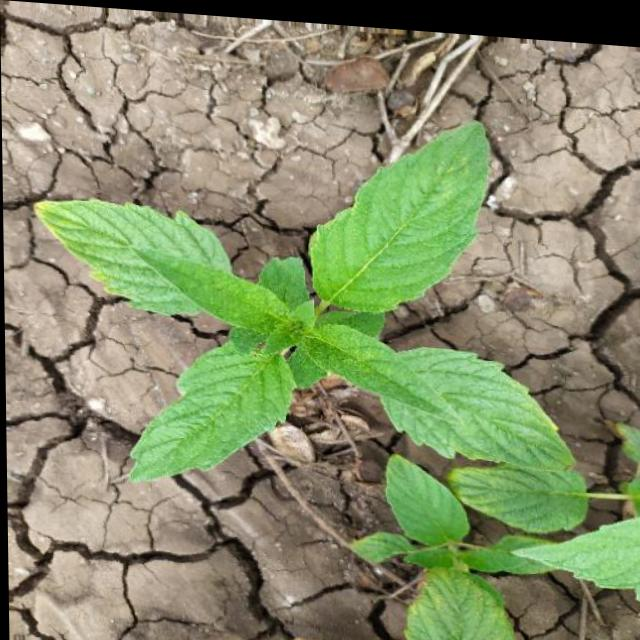crop: (27, 77, 576, 518)
